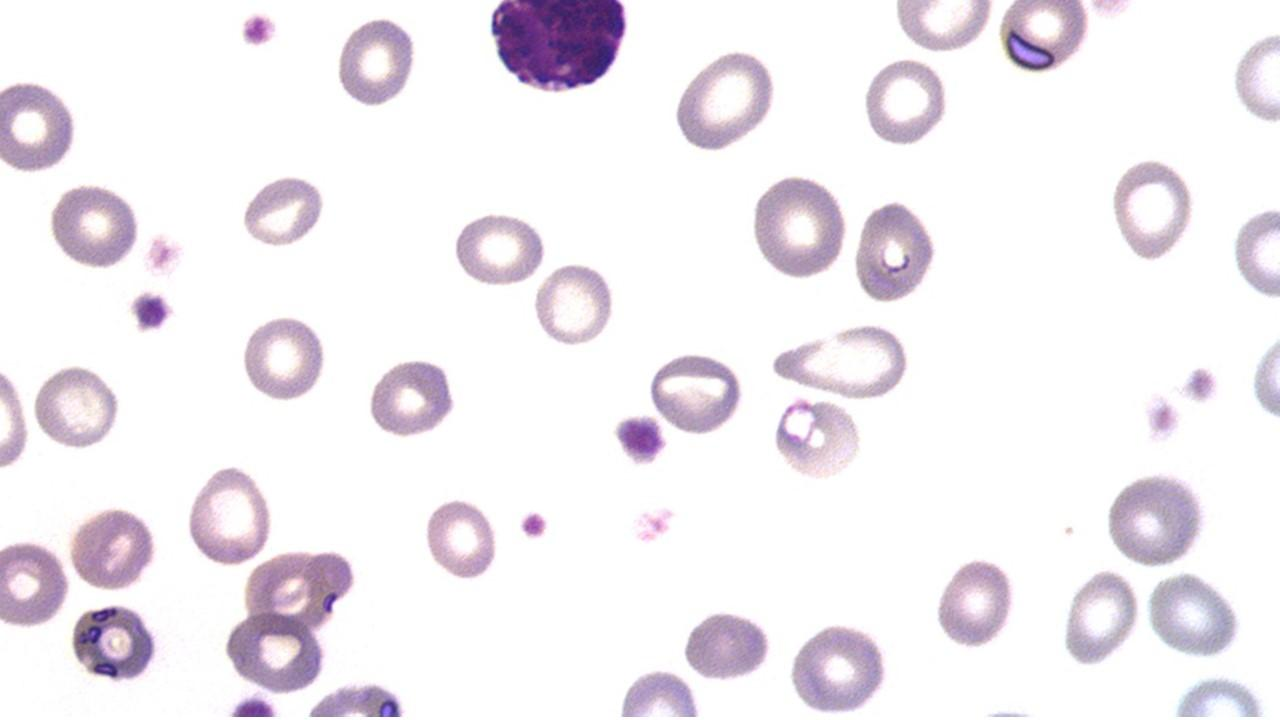Platelets: (608, 413, 668, 469), (1140, 390, 1184, 444), (624, 503, 680, 545), (126, 290, 177, 336), (1178, 362, 1222, 408), (224, 691, 283, 717)
RBC: (767, 321, 914, 403), (670, 46, 780, 155), (748, 170, 850, 282), (1102, 466, 1210, 568), (786, 618, 892, 716), (1108, 154, 1200, 265), (240, 545, 354, 634), (850, 196, 942, 305), (184, 462, 274, 568), (1145, 569, 1247, 661), (222, 610, 331, 696), (46, 178, 145, 272), (644, 351, 748, 436), (931, 552, 1018, 652), (334, 9, 418, 111), (239, 309, 329, 404), (768, 395, 865, 483), (366, 353, 460, 442), (0, 73, 80, 177), (1060, 567, 1142, 668), (31, 361, 122, 452), (861, 55, 949, 149), (448, 208, 550, 288), (531, 258, 617, 352), (67, 600, 163, 684), (66, 504, 158, 591), (680, 605, 774, 684), (998, 0, 1093, 76), (421, 494, 500, 584), (239, 170, 327, 250), (0, 535, 71, 632), (894, 2, 996, 56), (1229, 23, 1279, 130), (1230, 200, 1280, 302), (613, 664, 703, 716), (0, 355, 31, 474), (1249, 326, 1279, 428)
WBC: (480, 1, 636, 98)
